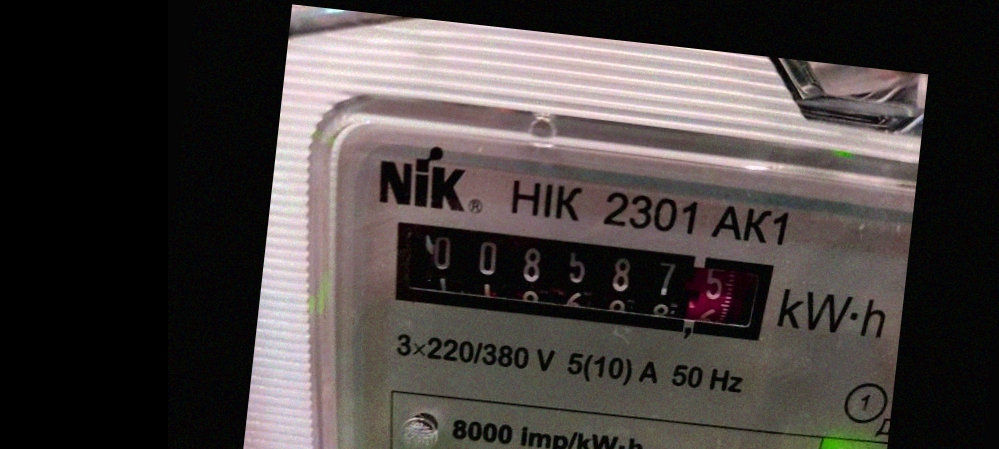0: (473, 236, 502, 278)
1: (427, 231, 456, 274)
5: (701, 262, 729, 304), (564, 247, 591, 287)
7: (652, 257, 679, 301)
8: (517, 242, 546, 286), (608, 252, 634, 296)
screen: (367, 200, 795, 364)
